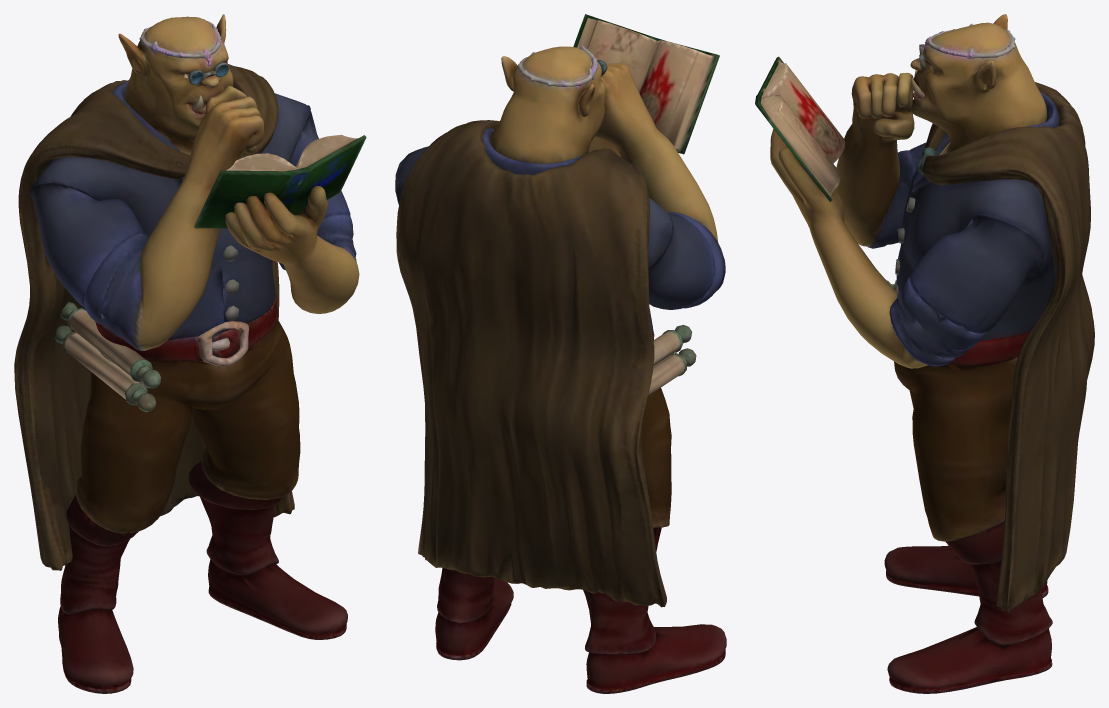
File: MZ4250 - Little One.glb
3 views of the same model, side by side, from view 1: azimuth 30°, elevation 25°; view 2: azimuth 150°, elevation 25°; view 3: azimuth 270°, elevation 25° (orthographic). The views are drawn at different scales.
Parts seen in each view (by area): view 1: Little One.001; view 2: Little One.001; view 3: Little One.001.
Boxes of the visible parts, x1,y1,x2,y2 form: Little One.001: (14,14,366,693); Little One.001: (395,14,726,693); Little One.001: (755,14,1094,693).
Bounding box in the file's own units: 38.27 × 78.3 × 39.98.
1 material, 1 textured.
